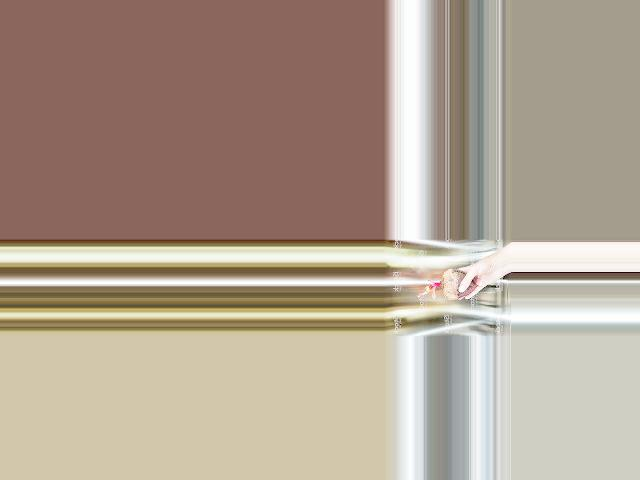beet: (418, 269, 475, 300)
